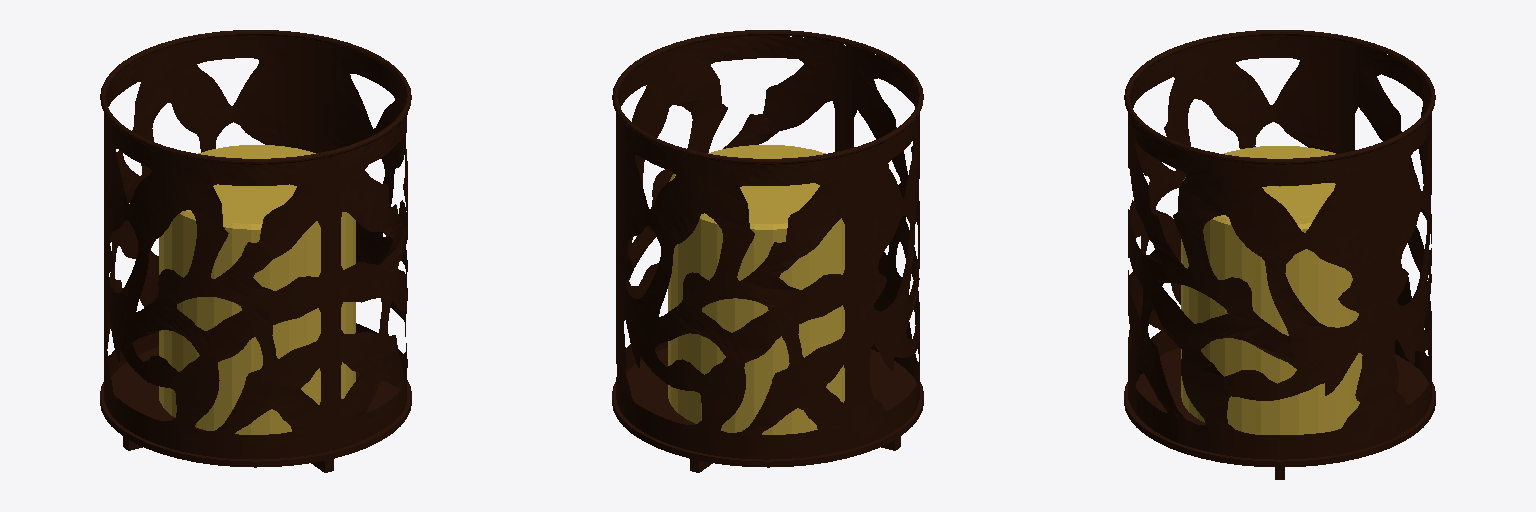
The model's file is complements2.obj.
The picture shows the model from 3 angles: view 1: azimuth 30°, elevation 25°; view 2: azimuth 150°, elevation 25°; view 3: azimuth 270°, elevation 25°; orthographic projection.
Visible parts, largest first — view 1: shape_Plane, candle1_Tube, base_Mesh, CurveCircle_Mesh.002; view 2: shape_Plane, candle1_Tube, base_Mesh, CurveCircle_Mesh.002; view 3: shape_Plane, candle1_Tube, base_Mesh, CurveCircle_Mesh.002.
Boxes of the visible parts, x1=… form: shape_Plane: x1=104, y1=36, x2=407, y2=458; candle1_Tube: x1=159, y1=145, x2=355, y2=434; base_Mesh: x1=100, y1=346, x2=411, y2=467; CurveCircle_Mesh.002: x1=100, y1=30, x2=411, y2=164; shape_Plane: x1=616, y1=36, x2=919, y2=459; candle1_Tube: x1=668, y1=145, x2=844, y2=434; base_Mesh: x1=612, y1=347, x2=923, y2=467; CurveCircle_Mesh.002: x1=612, y1=30, x2=923, y2=164; shape_Plane: x1=1128, y1=36, x2=1431, y2=459; candle1_Tube: x1=1181, y1=146, x2=1362, y2=434; base_Mesh: x1=1124, y1=348, x2=1435, y2=467; CurveCircle_Mesh.002: x1=1124, y1=30, x2=1435, y2=164.
Size of the model in its own units: 1.14 by 1.3 by 1.14.